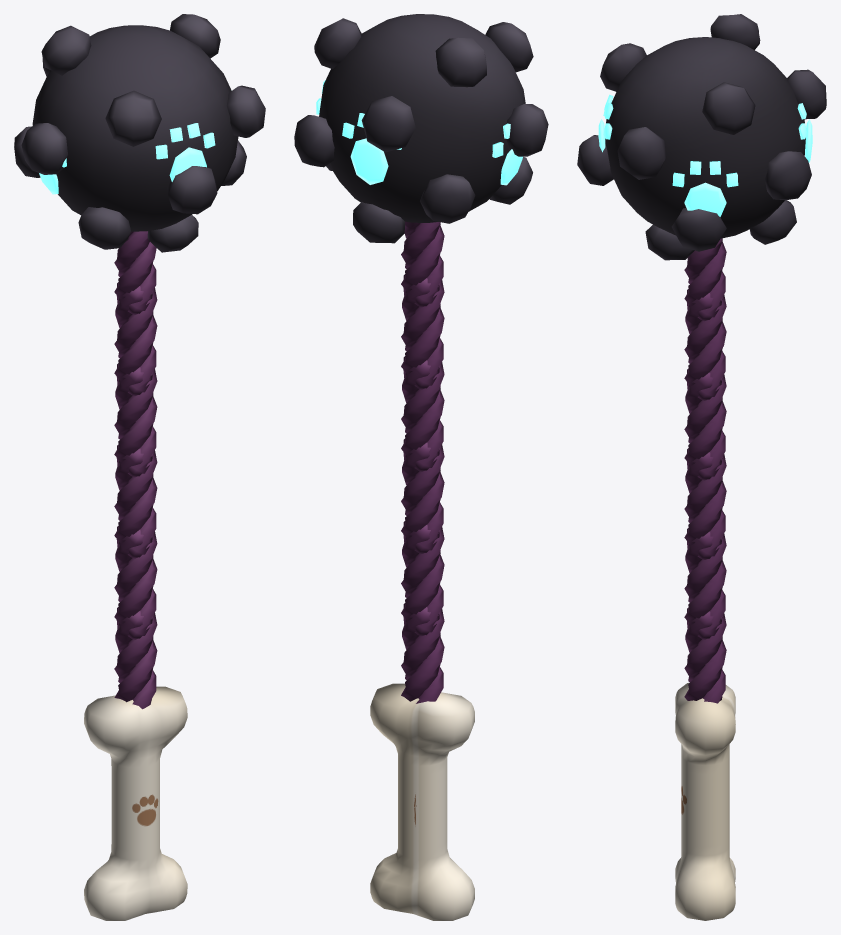
Rendered from shihtzu-flail.glb.
The picture shows the model from 3 angles, left to right: view 1: azimuth 30°, elevation 25°; view 2: azimuth 150°, elevation 25°; view 3: azimuth 270°, elevation 25°; orthographic projection. The views are drawn at different scales.
Parts seen in each view (by area): view 1: flail_head, flail_handle, flail_link_3, flail_link_1, flail_link_2, flail_link_4, flail_link_0, flail_link_5; view 2: flail_head, flail_handle, flail_link_2, flail_link_3, flail_link_4, flail_link_1, flail_link_0, flail_link_5; view 3: flail_head, flail_handle, flail_link_3, flail_link_1, flail_link_2, flail_link_4, flail_link_0, flail_link_5.
Part boxes in pixels (x1,y1,x2,y2): flail_head: [14, 14, 265, 252]; flail_handle: [84, 686, 187, 920]; flail_link_3: [114, 363, 157, 477]; flail_link_1: [114, 526, 157, 639]; flail_link_2: [114, 444, 157, 558]; flail_link_4: [114, 282, 157, 395]; flail_link_0: [114, 607, 157, 709]; flail_link_5: [114, 231, 156, 314]; flail_head: [294, 14, 548, 243]; flail_handle: [370, 683, 474, 920]; flail_link_2: [401, 438, 444, 553]; flail_link_3: [401, 356, 444, 471]; flail_link_4: [401, 274, 444, 389]; flail_link_1: [401, 521, 444, 636]; flail_link_0: [401, 603, 444, 703]; flail_link_5: [401, 221, 444, 307]; flail_head: [577, 14, 826, 260]; flail_handle: [675, 682, 735, 920]; flail_link_3: [684, 368, 726, 480]; flail_link_1: [684, 528, 726, 639]; flail_link_2: [684, 448, 726, 559]; flail_link_4: [684, 289, 726, 400]; flail_link_0: [684, 607, 726, 703]; flail_link_5: [684, 238, 726, 321].
Size of the model in its own units: 0.268 by 1.04 by 0.2698.
Materials: 2 (1 with a texture image).
